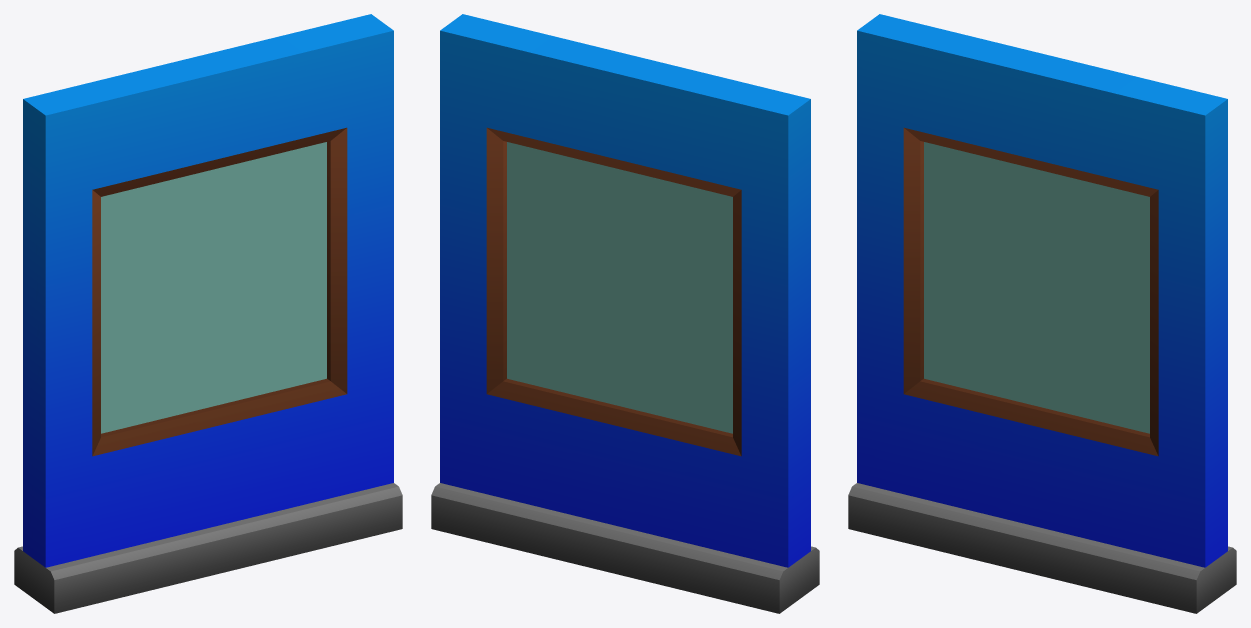
The model's file is Wall_02.fbx.
The picture shows the model from 3 angles, left to right: view 1: azimuth 30°, elevation 25°; view 2: azimuth 150°, elevation 25°; view 3: azimuth 330°, elevation 25°; orthographic projection.
Parts seen in each view (by area): view 1: Wall_02; view 2: Wall_02; view 3: Wall_02.
Part boxes in pixels (<box>): Wall_02: <box>14,14,402,613</box>; Wall_02: <box>431,14,819,613</box>; Wall_02: <box>848,14,1236,613</box>.
Size of the model in its own units: 200 by 270 by 40.
